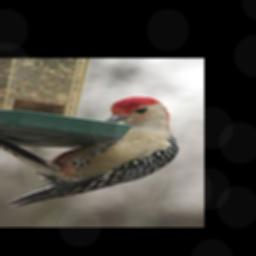Woodpecker: (1, 95, 177, 211)
